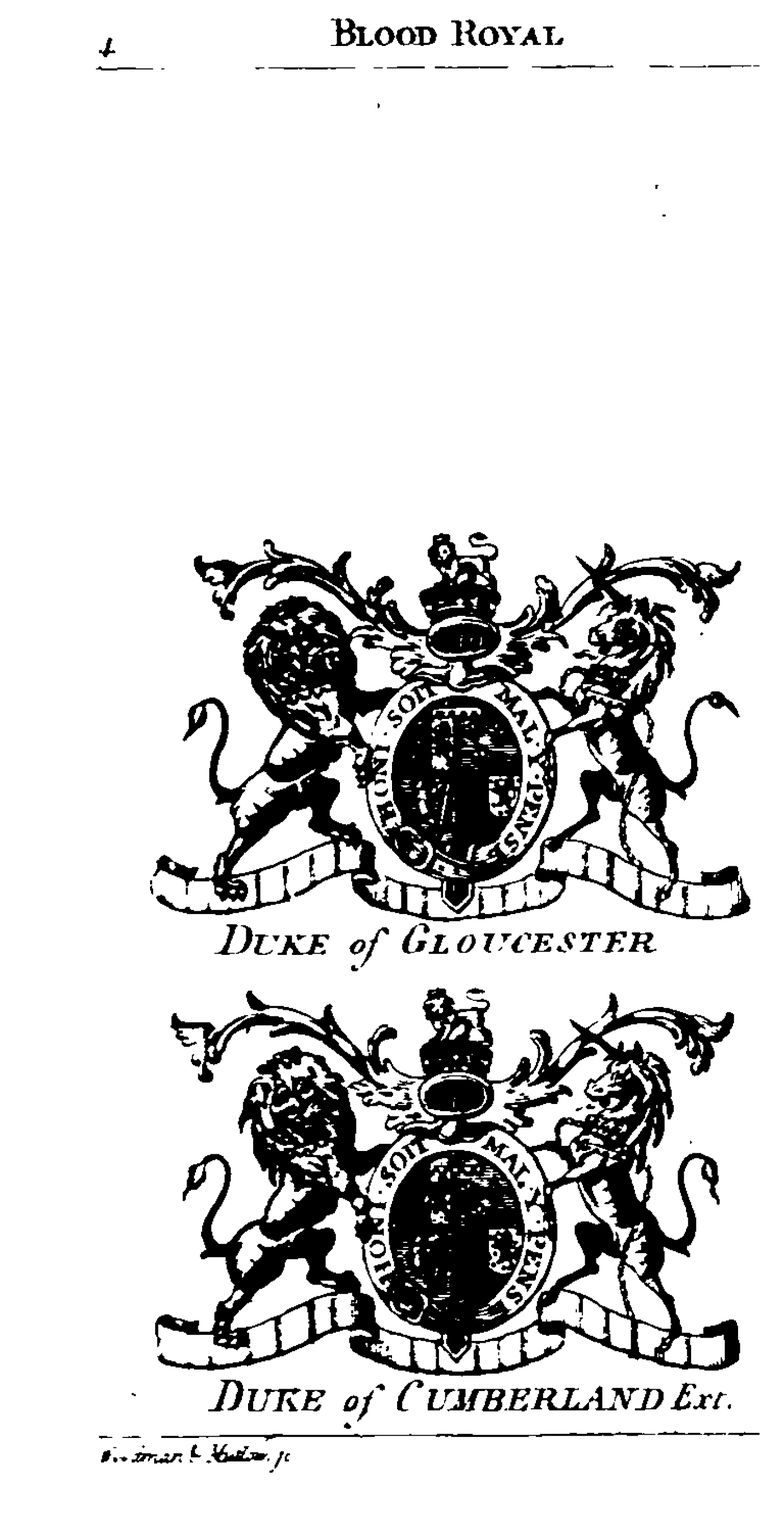coat_of_arms: (130, 516, 760, 984), (132, 988, 760, 1419)
